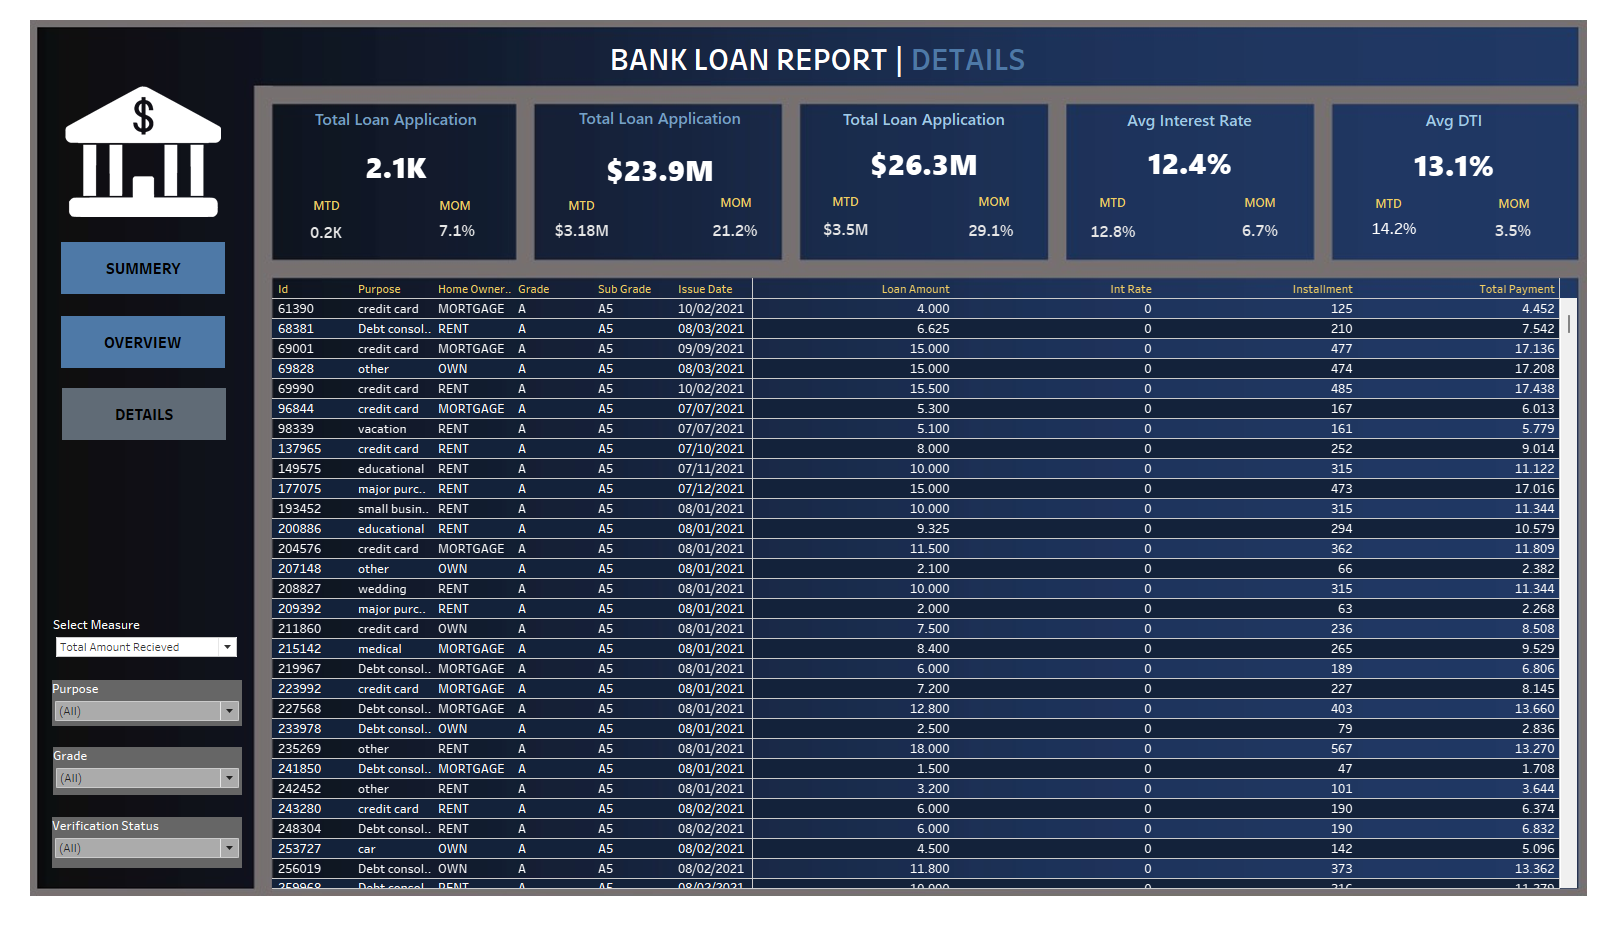

What the dashboard file says about the page in this screenshot:
{"tool":"tableau","page":{"name":"DETAILS","canvas":[1600,900],"ordinal":0},"visuals":[{"type":"image","param":"H:/Project/Data Analyst/Tableau/Tableau Background 3.jpg","box":[8,8,1584,884]},{"type":"text","box":[598,30,461,40]},{"type":"image","param":"C:/Users/MDMONI~1/AppData/Local/Temp/TableauTemp/1msafvm1m991k815xhiqw1b3gqvc/Sh","box":[56,78,156,220]},{"type":"worksheet","title":"Total Funded Amount","mark":"Automatic","box":[530,95,242,94]},{"type":"worksheet","title":"Total Loan Application","mark":"Automatic","box":[265,96,244,86]},{"type":"worksheet","title":"Total Amount Recieved","mark":"Automatic","box":[792,96,246,81]},{"type":"worksheet","title":"Avg Interest Rate","mark":"Automatic","box":[1058,97,245,77]},{"type":"worksheet","title":"Avg DTI","mark":"Automatic","box":[1323,97,244,80]},{"type":"text","box":[803,178,67,30]},{"type":"text","box":[935,178,100,30]},{"type":"text","box":[677,179,100,30]},{"type":"text","box":[1070,179,67,30]},{"type":"text","box":[1201,179,100,30]},{"type":"text","box":[1346,180,67,30]},{"type":"text","box":[1455,180,100,30]},{"type":"text","box":[284,182,67,30]},{"type":"text","box":[396,182,100,30]},{"type":"text","box":[539,182,67,30]},{"type":"worksheet","title":"MTD Avg DTI","mark":"Automatic","box":[1338,200,94,40]},{"type":"worksheet","title":"MTD Total Funded Amount","mark":"Automatic","box":[532,201,81,42]},{"type":"worksheet","title":"MoM Total Funded Amount","mark":"Automatic","box":[680,201,91,41]},{"type":"worksheet","title":"MTD Total Amount Recieved","mark":"Automatic","box":[796,201,81,40]},{"type":"worksheet","title":"MoM Total Loan Applications","mark":"Automatic","box":[413,203,70,38]},{"type":"worksheet","title":"MoM Avg INT Rate","mark":"Automatic","box":[1202,203,97,38]},{"type":"worksheet","title":"MTD Total Loan Applications","mark":"Automatic","box":[281,204,72,39]},{"type":"worksheet","title":"MoM Avg DTI","mark":"Automatic","box":[1457,204,93,36]},{"type":"worksheet","title":"MoM Total Amount Recieved","mark":"Automatic","box":[934,205,96,33]},{"type":"worksheet","title":"MTD Avg INT Rate","mark":"Automatic","box":[1056,205,95,36]},{"type":"dashboard-object","box":[52,234,164,52]},{"type":"worksheet","title":"Details Tab","mark":"Automatic","rows":["id","purpose","home_ownership","grade","sub_grade","issue_date"],"box":[263,270,1305,611]},{"type":"dashboard-object","box":[52,308,164,52]},{"type":"dashboard-object","box":[53,380,164,52]},{"type":"parameter","param":"[Parameters].[Parameter 1]","box":[44,608,187,44]},{"type":"filter","title":"Avg DTI","param":"[federated.1yh2q4d1p6eods1fdrs3f1kuyx0a].[none:purpose:nk]","box":[43,672,190,46]},{"type":"filter","title":"Avg DTI","param":"[federated.1yh2q4d1p6eods1fdrs3f1kuyx0a].[none:grade:nk]","box":[44,739,189,48]},{"type":"filter","title":"Avg DTI","param":"[federated.1yh2q4d1p6eods1fdrs3f1kuyx0a].[none:verification_status:nk]","box":[43,809,190,51]}]}

Visuals, with their boxes in screenshot pixels (x1, y1, x2, y2), scaled from the page's 1600x900 canvas onto the 1612x925 screenshot:
image: x1=8, y1=8, x2=1604, y2=917
text: x1=602, y1=31, x2=1067, y2=72
image: x1=56, y1=80, x2=214, y2=306
"Total Funded Amount" worksheet: x1=534, y1=98, x2=778, y2=194
"Total Loan Application" worksheet: x1=267, y1=99, x2=513, y2=187
"Total Amount Recieved" worksheet: x1=798, y1=99, x2=1046, y2=182
"Avg Interest Rate" worksheet: x1=1066, y1=100, x2=1313, y2=179
"Avg DTI" worksheet: x1=1333, y1=100, x2=1579, y2=182
text: x1=809, y1=183, x2=877, y2=214
text: x1=942, y1=183, x2=1043, y2=214
text: x1=682, y1=184, x2=783, y2=215
text: x1=1078, y1=184, x2=1146, y2=215
text: x1=1210, y1=184, x2=1311, y2=215
text: x1=1356, y1=185, x2=1424, y2=216
text: x1=1466, y1=185, x2=1567, y2=216
text: x1=286, y1=187, x2=354, y2=218
text: x1=399, y1=187, x2=500, y2=218
text: x1=543, y1=187, x2=611, y2=218
"MTD Avg DTI" worksheet: x1=1348, y1=206, x2=1443, y2=247
"MTD Total Funded Amount" worksheet: x1=536, y1=207, x2=618, y2=250
"MoM Total Funded Amount" worksheet: x1=685, y1=207, x2=777, y2=249
"MTD Total Amount Recieved" worksheet: x1=802, y1=207, x2=884, y2=248
"MoM Total Loan Applications" worksheet: x1=416, y1=209, x2=487, y2=248
"MoM Avg INT Rate" worksheet: x1=1211, y1=209, x2=1309, y2=248
"MTD Total Loan Applications" worksheet: x1=283, y1=210, x2=356, y2=250
"MoM Avg DTI" worksheet: x1=1468, y1=210, x2=1562, y2=247
"MoM Total Amount Recieved" worksheet: x1=941, y1=211, x2=1038, y2=245
"MTD Avg INT Rate" worksheet: x1=1064, y1=211, x2=1160, y2=248
dashboard-object: x1=52, y1=240, x2=218, y2=294
"Details Tab" worksheet: x1=265, y1=278, x2=1580, y2=905
dashboard-object: x1=52, y1=317, x2=218, y2=370
dashboard-object: x1=53, y1=391, x2=219, y2=444
parameter: x1=44, y1=625, x2=233, y2=670
"Avg DTI" filter: x1=43, y1=691, x2=235, y2=738
"Avg DTI" filter: x1=44, y1=760, x2=235, y2=809
"Avg DTI" filter: x1=43, y1=831, x2=235, y2=884
